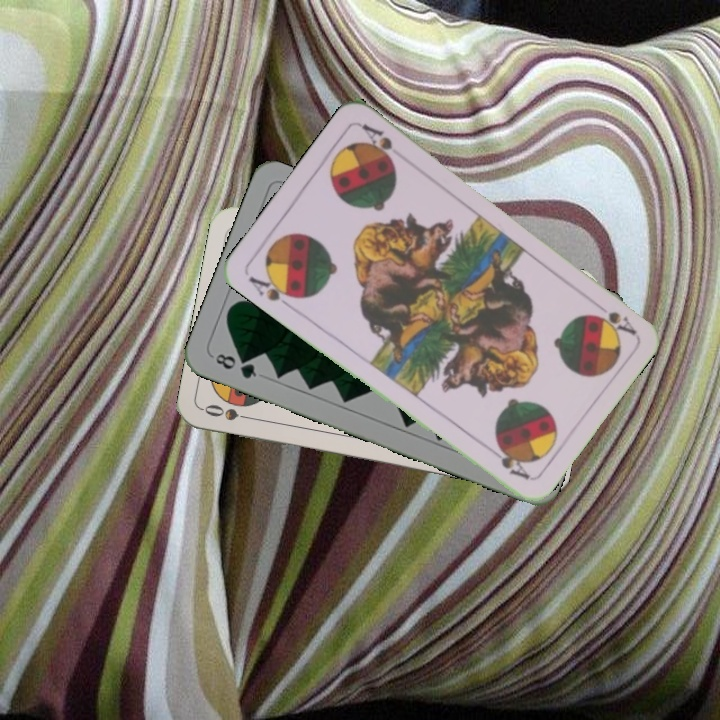G8: (208, 349, 260, 382)
SA: (244, 270, 301, 311), (589, 295, 638, 338)
SO: (200, 400, 259, 423)
